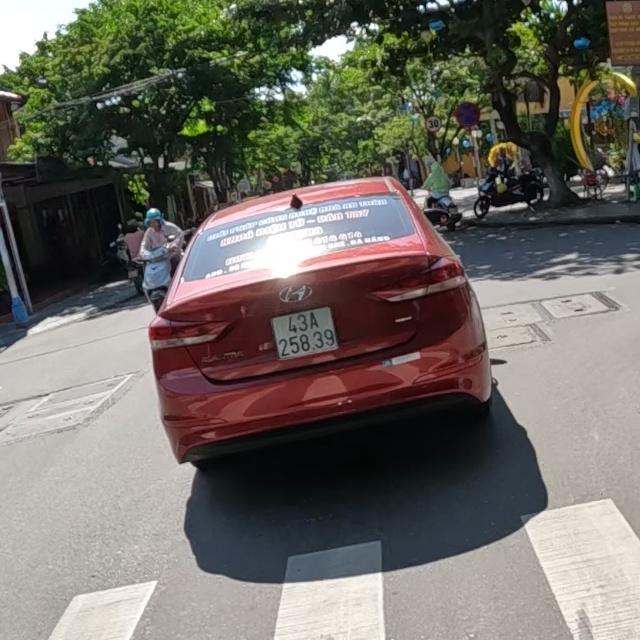license-plate: (271, 304, 341, 362)
